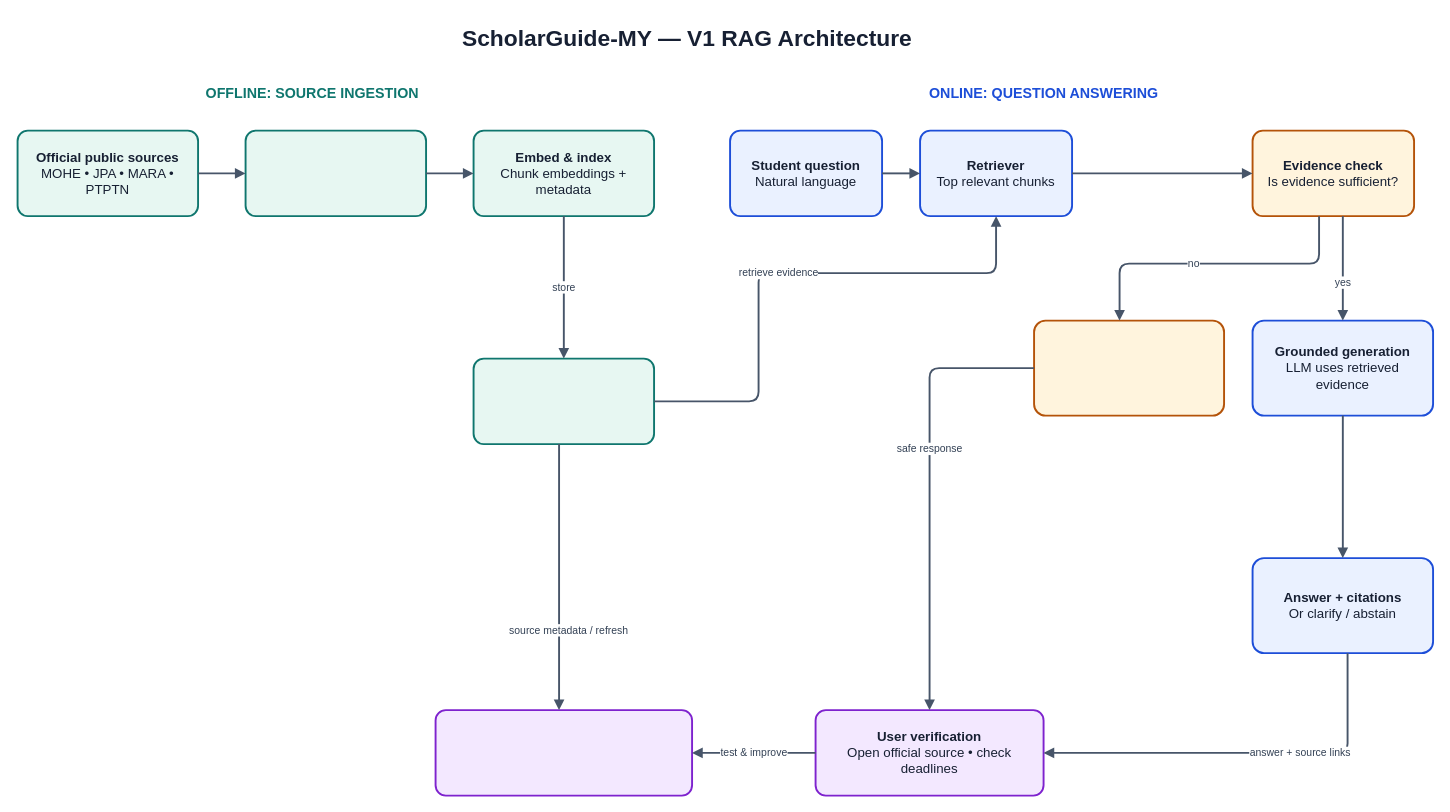
This 1450x812 diagram has some shape labels left out. Each missing label, with the box of its shape:
Evaluation & maintenance 30+ questions • metrics • refresh sources: (434, 709, 693, 796)
Ingest & clean Extract text • split into chunks: (244, 129, 427, 217)
Insufficient evidence Say cannot confirm; direct to official source: (1033, 319, 1225, 416)
Vector index Chunks • title • URL • check date: (472, 357, 655, 445)
